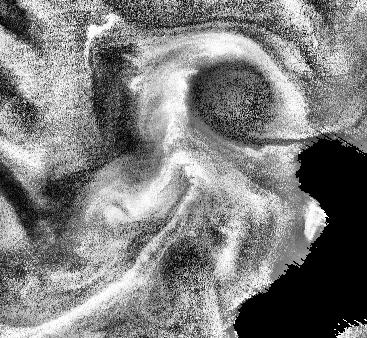AE: (164, 27, 309, 156)
